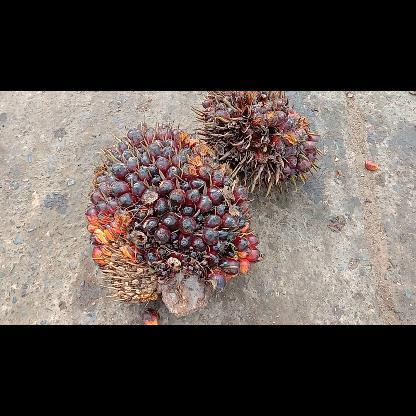Kurang masak: (80, 117, 260, 317)
TBS masak: (191, 91, 323, 197)
